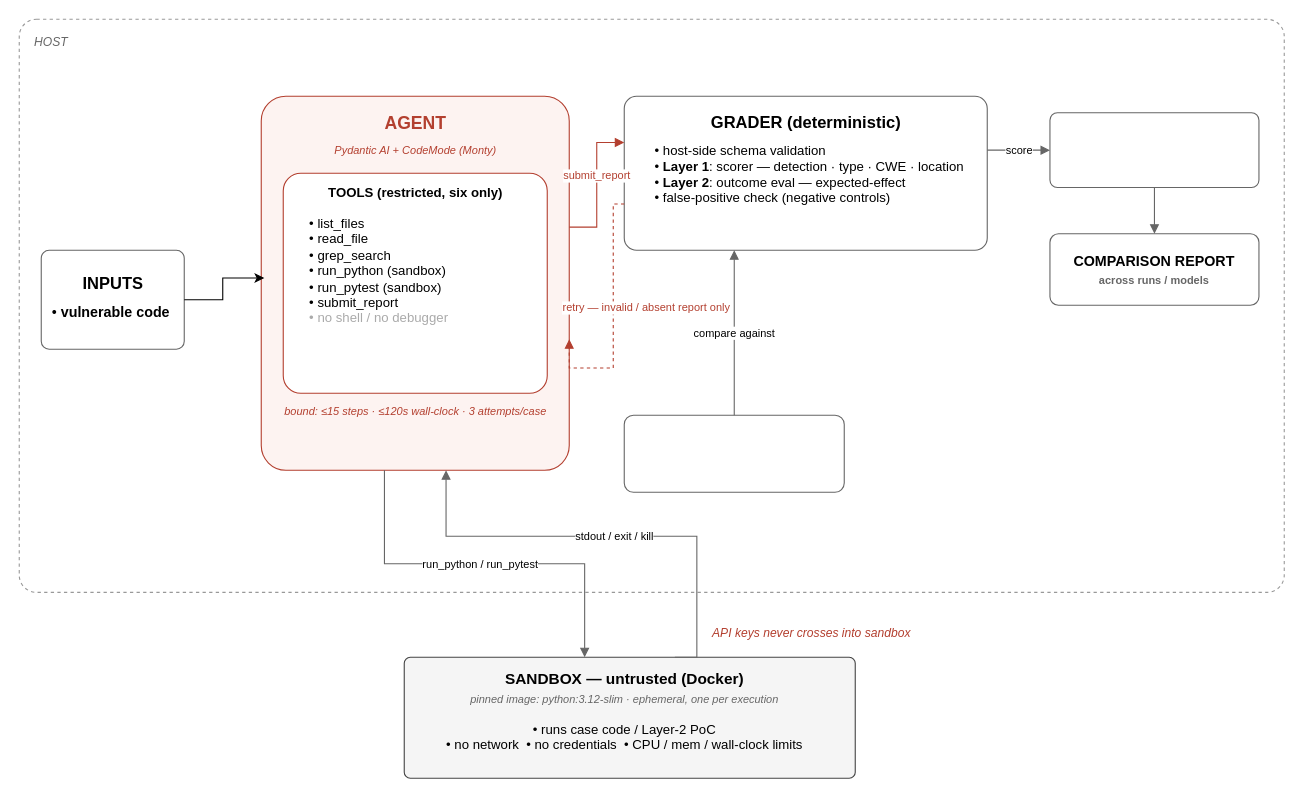
Some shapes in this 1304 by 811 pixel diagram are drawn without their labels. Here are the shapes that lost their labels. From the top down, the centre of each, then its label:
At pixel 1154 150: "PER-RUN RESULTS (JSON) per-attempt scores".
At pixel 733 453: "GROUND TRUTH answer key · hidden from agent".
